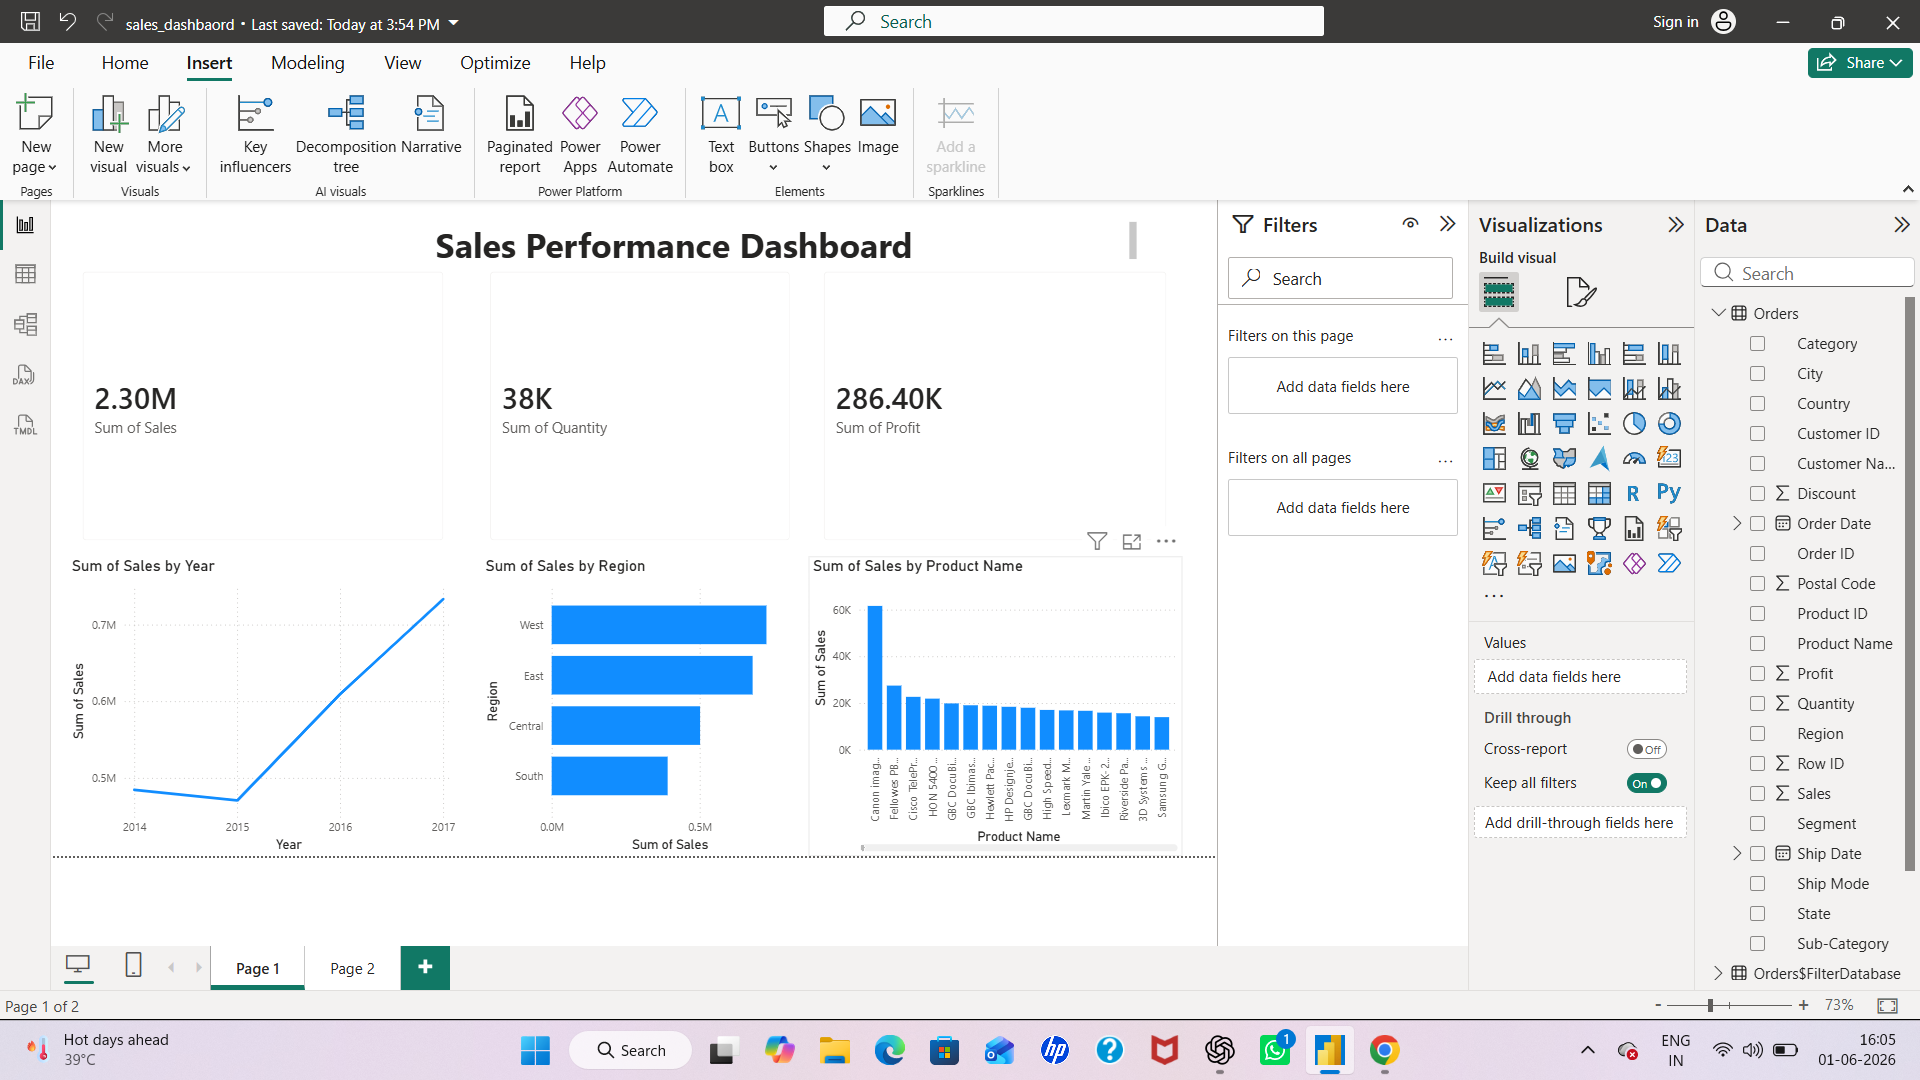

The dashboard page shown, as its layout file describes it:
{"tool":"powerbi","page":{"name":"Page 1","canvas":[1280,720],"ordinal":0},"visuals":[{"type":"cardVisual","fields":{"Data":["Sum(Orders.Sales)"]},"box":[17.8,61.7,430.9,329.3],"z":0},{"type":"cardVisual","fields":{"Data":["Sum(Orders.Profit)"]},"box":[831.6,61.7,410.3,329.3],"z":1000},{"type":"cardVisual","fields":{"Data":["Sum(Orders.Quantity)"]},"box":[465.2,61.7,363.6,329.3],"z":2000},{"type":"lineChart","fields":{"Category":["Orders.Order Date.Variation.Date Hierarchy.Year","Orders.Order Date.Variation.Date Hierarchy.Quarter","Orders.Order Date.Variation.Date Hierarchy.Month","Orders.Order Date.Variation.Date Hierarchy.Day"],"Y":["Sum(Orders.Sales)"]},"box":[17.8,391.1,430.9,329.3],"z":3000},{"type":"clusteredBarChart","fields":{"Category":["Orders.Region"],"Y":["Sum(Orders.Sales)"]},"box":[472,391.1,356.8,329.3],"z":4000},{"type":"clusteredColumnChart","fields":{"Category":["Orders.Product Name"],"Y":["Sum(Orders.Sales)"]},"box":[831.6,391.1,410.3,329.3],"z":5000},{"type":"textbox","box":[179.8,19.2,1016.8,54.9],"z":5001}]}

Visuals, with their boxes on the page's 1280x720 design canvas (x1, y1, x2, y2). These are canvas units, not pixel positions in the 1920x1080 screenshot, which may show the page scaled, cropped or inside an application window:
cardVisual - Sum(Orders.Sales): bbox=(18, 62, 449, 391)
cardVisual - Sum(Orders.Profit): bbox=(832, 62, 1242, 391)
cardVisual - Sum(Orders.Quantity): bbox=(465, 62, 829, 391)
lineChart - Orders.Order Date.Variation.Date Hierarchy.Year x Orders.Order Date.Variation.Date Hierarchy.Quarter: bbox=(18, 391, 449, 720)
clusteredBarChart - Orders.Region x Sum(Orders.Sales): bbox=(472, 391, 829, 720)
clusteredColumnChart - Orders.Product Name x Sum(Orders.Sales): bbox=(832, 391, 1242, 720)
textbox: bbox=(180, 19, 1197, 74)
